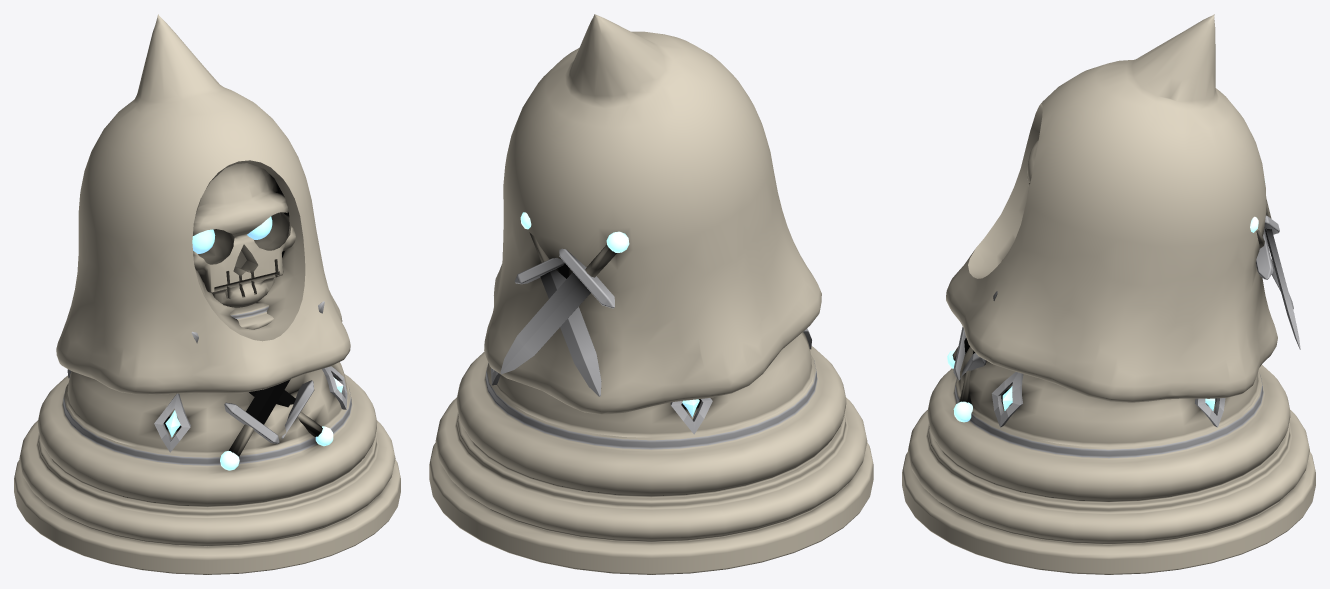
File: skirmisher.glb
The picture shows the model from 3 angles, left to right: view 1: azimuth 30°, elevation 25°; view 2: azimuth 150°, elevation 25°; view 3: azimuth 270°, elevation 25°; orthographic projection. The views are drawn at different scales.
Parts seen in each view (by area): view 1: skirmisher; view 2: skirmisher; view 3: skirmisher.
Part boxes in pixels (<box>): skirmisher: <box>14,14,400,574</box>; skirmisher: <box>429,14,873,574</box>; skirmisher: <box>902,14,1315,574</box>.
Bounding box in the file's own units: 0.72 × 0.9114 × 0.72.
